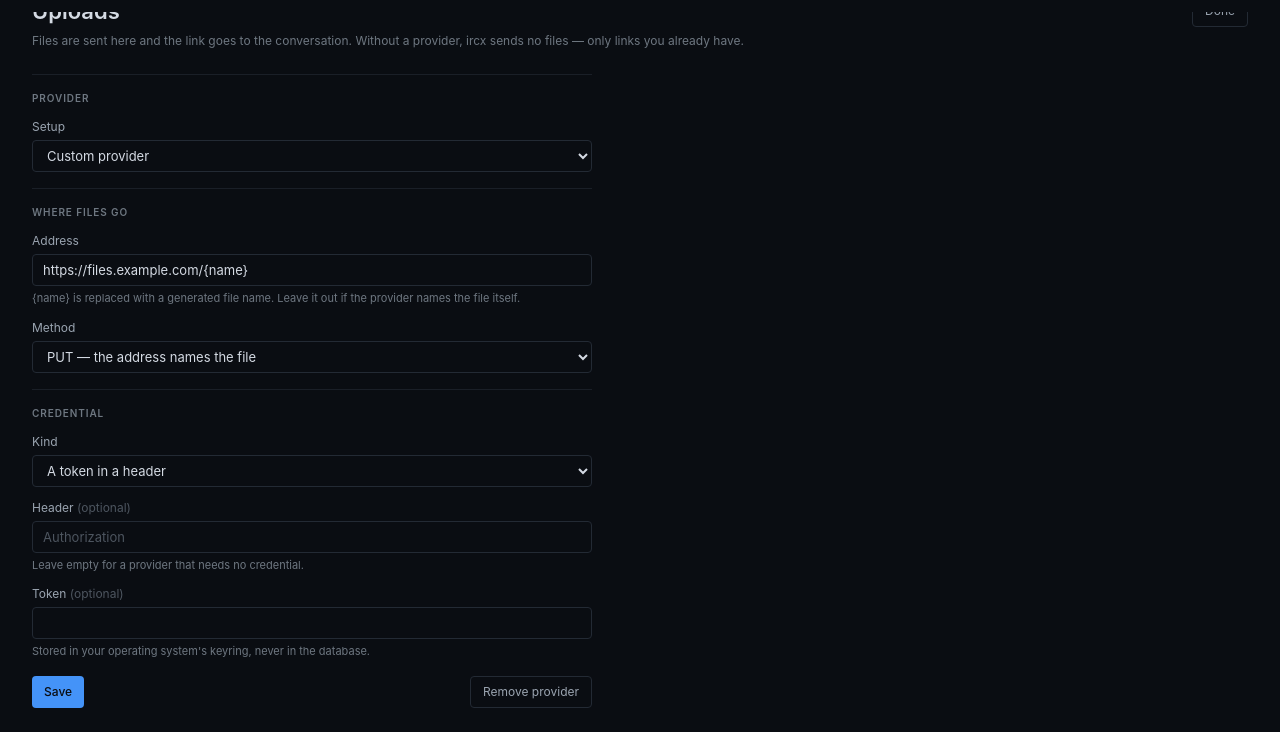
Scenario: the uploads page › releases the page when removal fails
(page scrolled)
Click the button "Remove provider". click: click(531, 692)
box: x1=470 y1=676 x2=592 y2=708
(page scrolled)
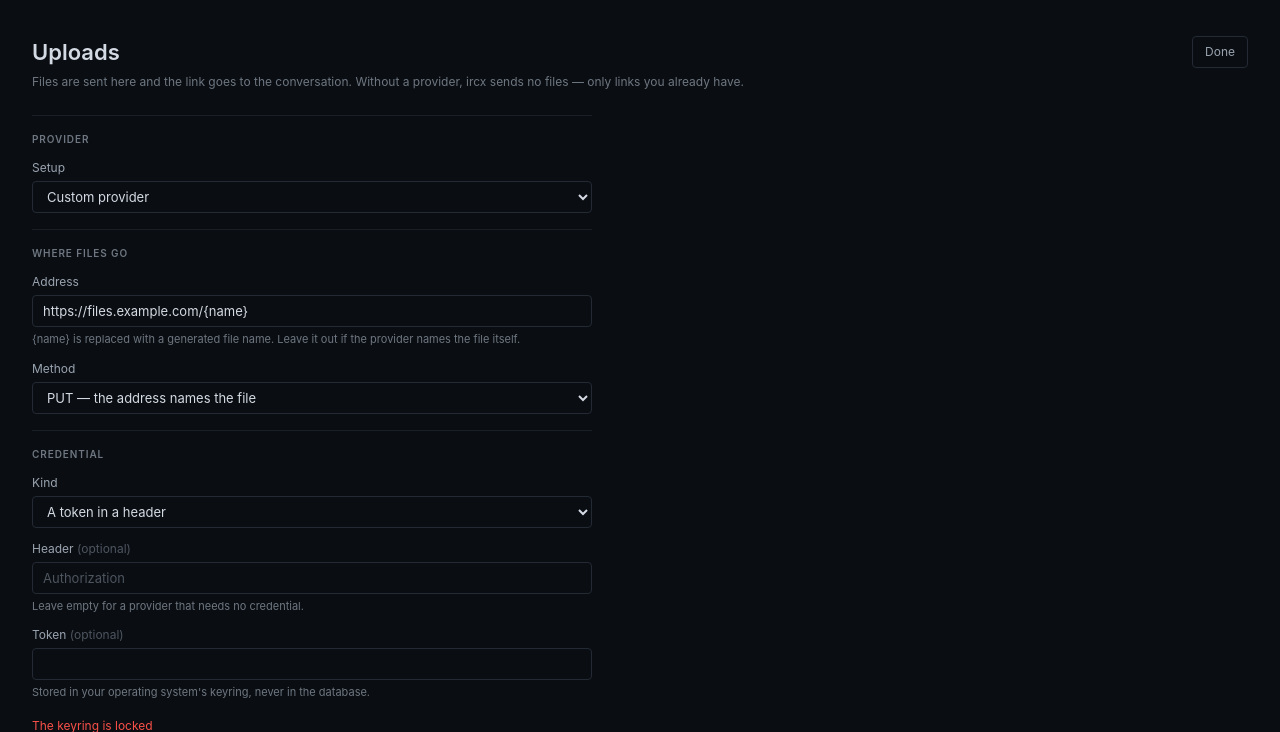
Expected: the button "Done" is enabled, x1=1192 y1=36 x2=1248 y2=68
Expected: the text "The keyring is locked" is shown, x1=32 y1=718 x2=153 y2=731
